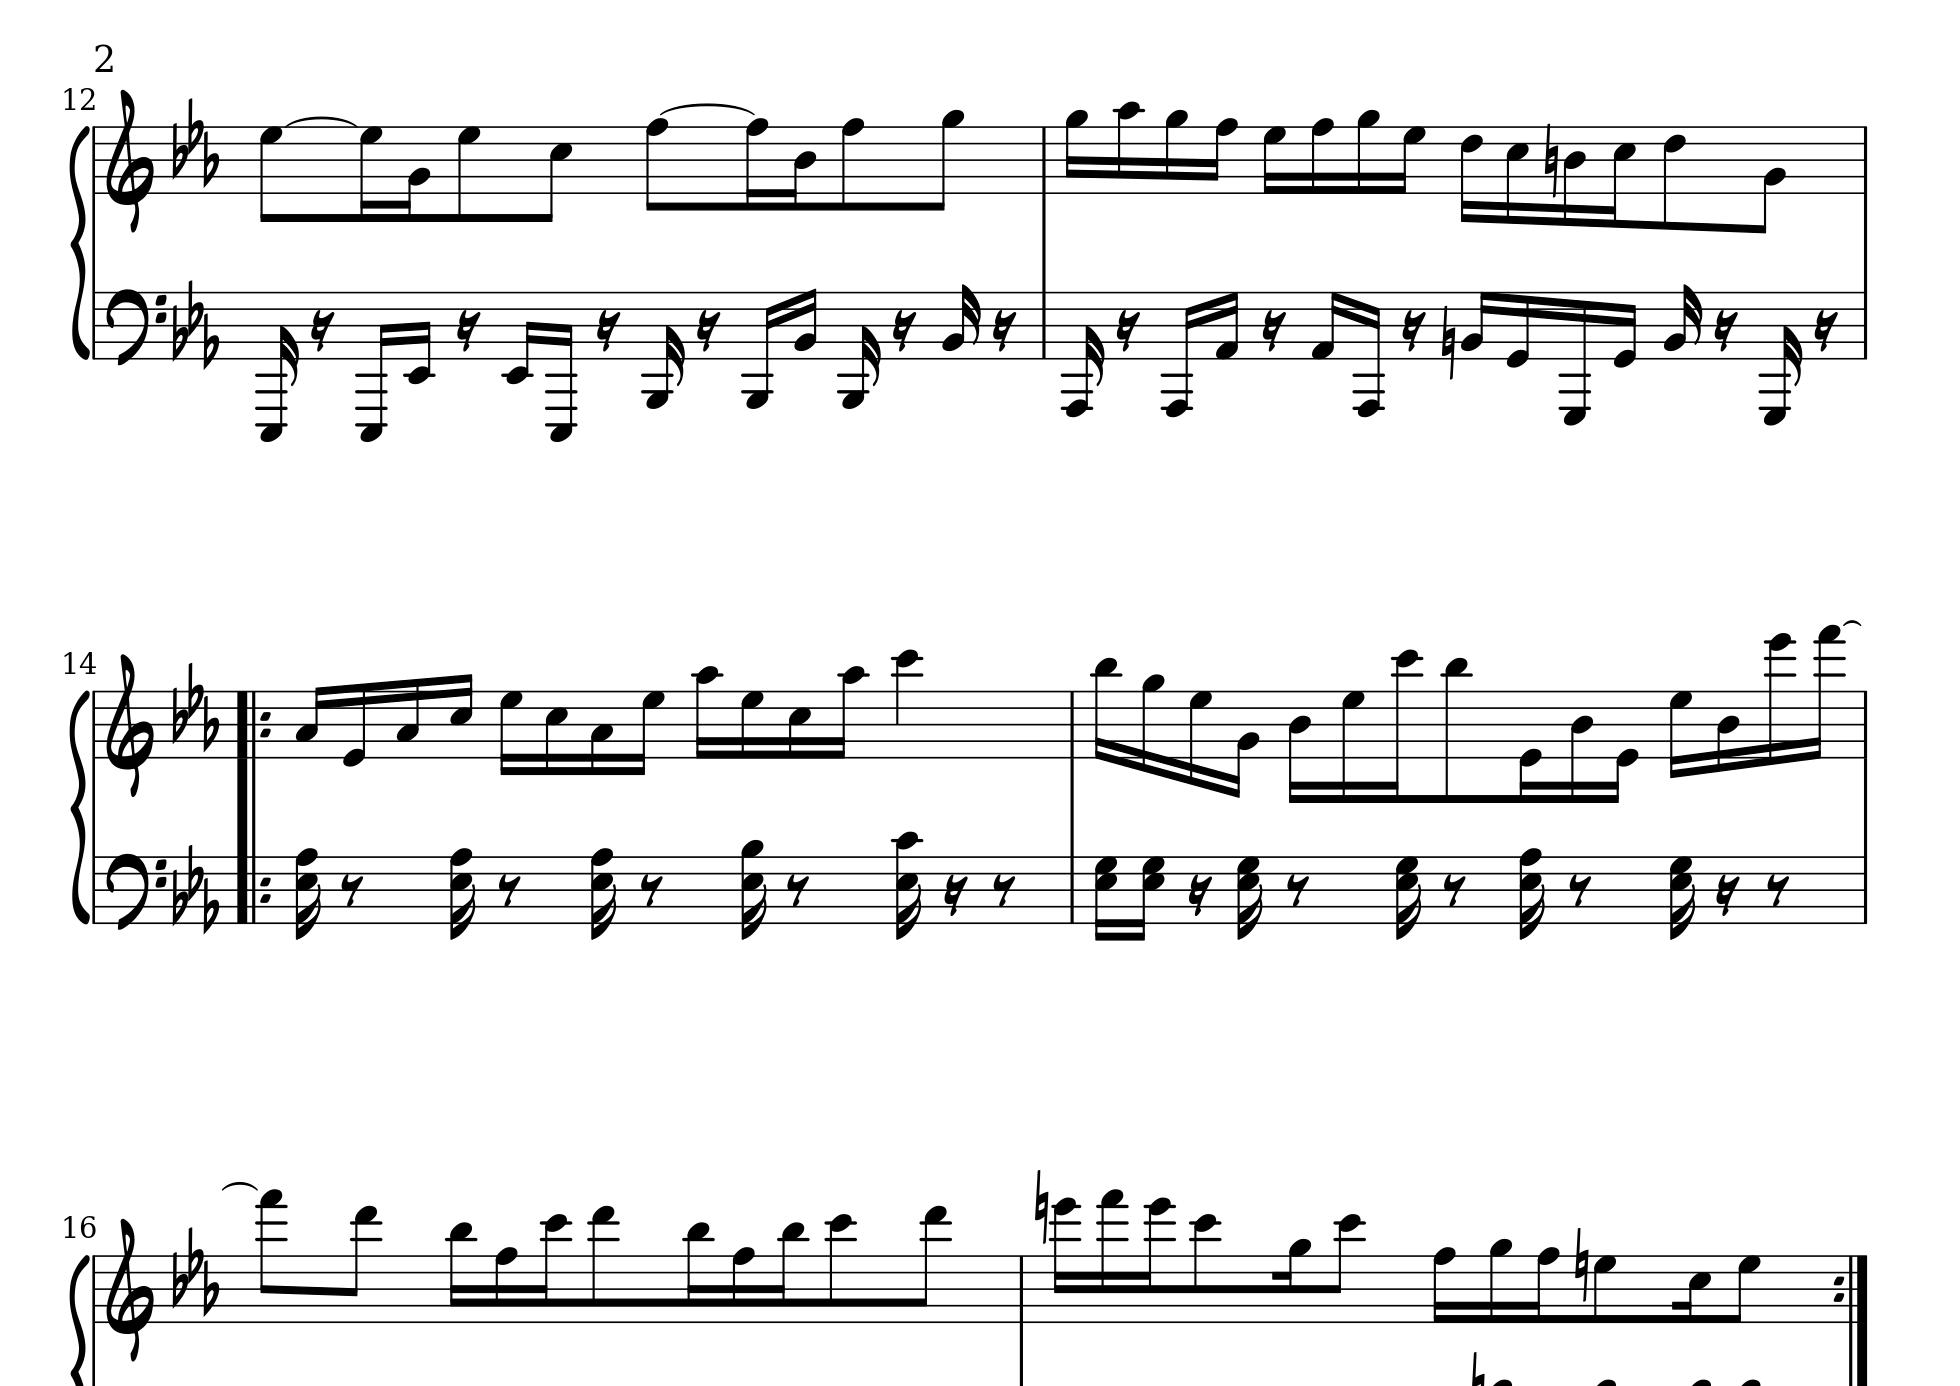1: (61, 1212, 76, 1240), (61, 85, 76, 112), (61, 649, 76, 676)
16_-2: (504, 291, 538, 385), (403, 289, 433, 385)
16_-5: (838, 289, 880, 411), (643, 289, 685, 409), (742, 291, 778, 409)
16_-6: (1062, 289, 1105, 418), (1161, 289, 1198, 418), (1353, 291, 1386, 418)
16_-7: (1761, 289, 1803, 426), (1560, 289, 1591, 427)
16_-9: (256, 289, 298, 444), (355, 289, 394, 442), (544, 286, 577, 444)
16_0: (1608, 687, 1639, 805), (1518, 687, 1543, 804), (340, 681, 367, 768), (1504, 289, 1533, 370), (1611, 289, 1639, 370)
16_1: (1309, 289, 1342, 361), (1215, 289, 1240, 361)
16_10: (831, 664, 865, 760), (1114, 100, 1143, 195), (694, 664, 721, 760)
16_11: (769, 1219, 807, 1324), (682, 1219, 712, 1326), (445, 1219, 475, 1324), (1092, 655, 1120, 765)
16_12: (1383, 648, 1422, 805), (532, 1213, 570, 1324)
16_14: (1138, 1197, 1176, 1324), (1764, 633, 1794, 766), (1051, 1197, 1080, 1324)
16_15: (1809, 627, 1842, 760), (1096, 1189, 1128, 1324)
16_2: (1230, 688, 1260, 799), (399, 123, 432, 223), (940, 282, 981, 360), (1663, 282, 1702, 361), (792, 286, 820, 361), (1461, 289, 1491, 360)
16_3: (292, 684, 325, 757), (394, 676, 421, 759), (588, 688, 613, 775)
16_4: (1567, 688, 1596, 805), (1287, 688, 1314, 805), (787, 123, 817, 211), (1563, 121, 1587, 229), (1716, 688, 1741, 774)
16_5: (1602, 124, 1638, 229), (1674, 1252, 1713, 1324), (1504, 123, 1530, 226), (448, 670, 474, 759), (543, 688, 568, 775), (786, 688, 811, 760)
16_5_10: (891, 829, 922, 942)
16_5_7: (1132, 855, 1167, 942), (1234, 855, 1266, 942), (1395, 853, 1425, 943), (1668, 853, 1698, 942), (1093, 853, 1119, 940)
16_5_8: (294, 846, 325, 940), (445, 847, 477, 942), (588, 847, 619, 942), (1518, 846, 1548, 945)
16_5_9: (738, 837, 771, 940)
16_6: (1459, 123, 1485, 225)
16_7: (1339, 685, 1366, 805), (631, 688, 664, 778), (1188, 687, 1213, 790), (358, 121, 384, 223), (1668, 687, 1693, 781), (1393, 124, 1426, 196), (498, 687, 523, 778), (1260, 123, 1287, 196), (739, 687, 763, 760)
16_8: (1206, 115, 1239, 195), (1527, 1245, 1560, 1324), (745, 115, 771, 211), (1431, 1243, 1458, 1324), (492, 1245, 519, 1324), (1309, 115, 1335, 195), (730, 1245, 756, 1324)
16_9: (1275, 1234, 1311, 1324), (1140, 670, 1164, 775), (1162, 106, 1188, 196), (1354, 106, 1380, 196), (1488, 1234, 1513, 1324), (1063, 106, 1089, 195)
2: (91, 40, 115, 73), (76, 85, 96, 112)
4: (79, 649, 97, 676)
4_12: (892, 648, 921, 760)
6: (79, 1212, 97, 1240)
8_11: (1443, 652, 1471, 807)
8_12: (1326, 1210, 1365, 1324), (825, 1212, 856, 1326), (1191, 1210, 1221, 1324)
8_13: (912, 1204, 951, 1324), (343, 1204, 379, 1324), (588, 1204, 618, 1324)
8_15: (255, 1186, 286, 1324)
8_2: (1752, 123, 1788, 235)
8_5: (538, 123, 574, 223)
8_6: (1662, 123, 1687, 232)
8_7: (454, 123, 483, 223), (258, 124, 285, 223), (1728, 1252, 1761, 1324), (1593, 1252, 1617, 1324)
8_8: (838, 115, 865, 211), (645, 115, 670, 213)
8_9: (928, 106, 964, 213)
A_F: (169, 1224, 220, 1317)
B_F: (169, 841, 219, 931), (172, 658, 219, 753)
Brace: (69, 121, 91, 358), (70, 688, 91, 922)
E_F: (169, 96, 220, 189), (168, 277, 219, 364)
Fclef: (103, 286, 166, 369), (103, 850, 166, 933)
Gclef: (103, 87, 156, 235), (103, 1216, 156, 1363), (103, 651, 154, 798)
LeftRepeatSign: (234, 853, 271, 924), (234, 688, 271, 757)
Natural: (1032, 1165, 1050, 1245), (1440, 303, 1456, 379), (1543, 121, 1560, 196), (1573, 1228, 1590, 1303)
Rests16: (1186, 871, 1213, 918), (1114, 307, 1141, 352), (1260, 307, 1287, 352), (942, 871, 967, 918), (1714, 871, 1740, 918), (454, 309, 481, 352), (1812, 307, 1839, 351), (595, 307, 621, 352), (694, 307, 720, 352), (891, 307, 916, 352), (991, 307, 1017, 352), (1401, 307, 1426, 352), (1713, 307, 1738, 352), (309, 307, 334, 351)
Rests8: (1440, 871, 1468, 907), (337, 871, 364, 907), (495, 871, 522, 907), (637, 871, 664, 907), (990, 871, 1017, 907), (1284, 871, 1311, 907), (1566, 871, 1593, 907), (1764, 871, 1791, 906), (784, 871, 810, 907)
RightRepeatSign: (1833, 1252, 1872, 1321)
Single_barline: (1011, 1255, 1032, 1321), (1035, 126, 1054, 192), (1035, 291, 1053, 357), (1063, 856, 1081, 921), (1857, 126, 1873, 192), (1857, 856, 1873, 922), (1857, 292, 1873, 357), (1858, 690, 1873, 757), (1065, 691, 1080, 757), (88, 1254, 102, 1323), (88, 126, 102, 193), (88, 690, 100, 759), (88, 856, 100, 921), (88, 292, 100, 355)
Slur: (658, 102, 756, 115), (283, 114, 358, 127), (220, 1180, 259, 1192), (1842, 619, 1866, 628)
